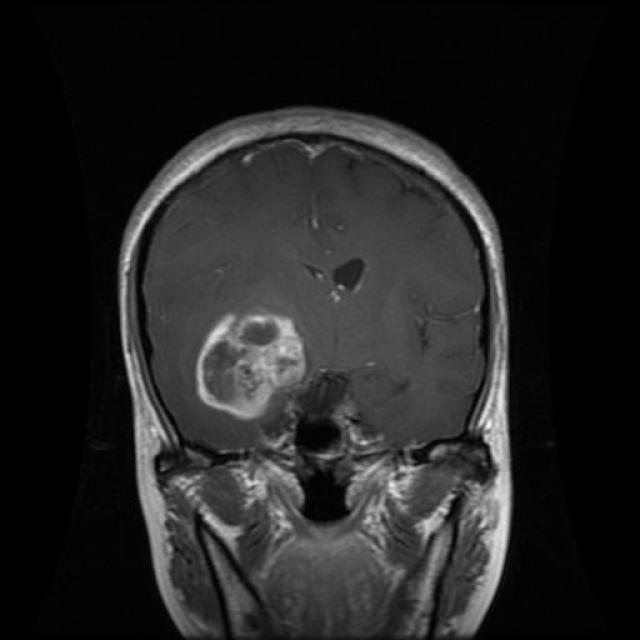glioma: (195, 297, 311, 419)
